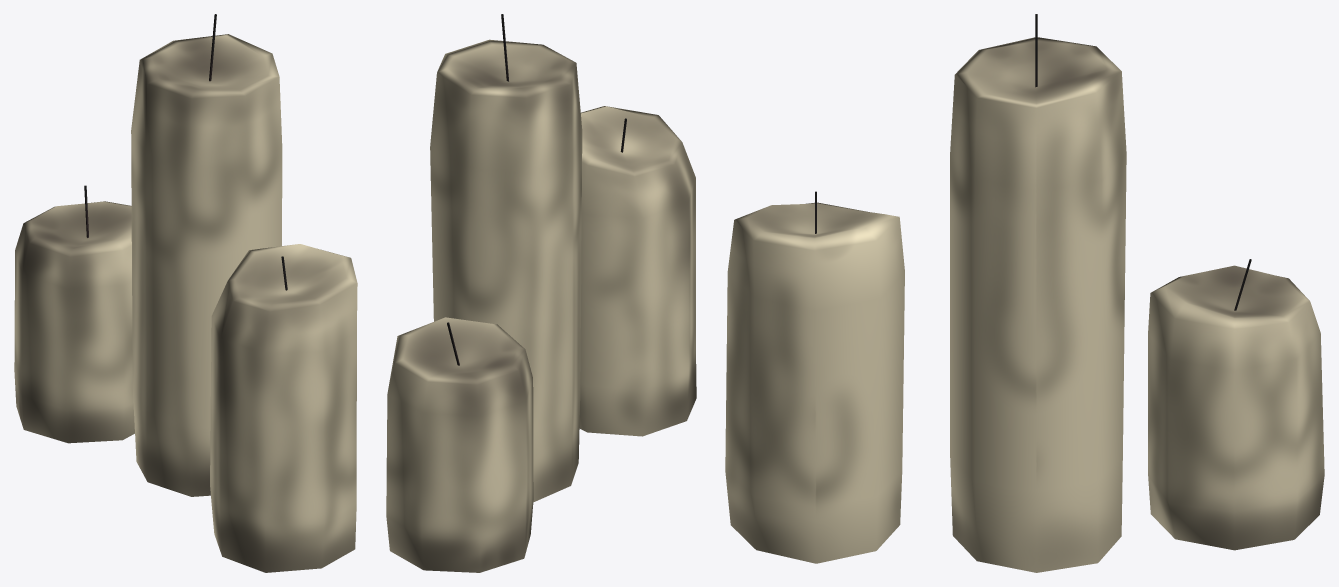
Rendered from Candles.fbx.
3 views of the same model, side by side, from view 1: azimuth 30°, elevation 25°; view 2: azimuth 150°, elevation 25°; view 3: azimuth 270°, elevation 25° (orthographic). The views are drawn at different scales.
Parts seen in each view (by area): view 1: Candles; view 2: Candles; view 3: Candles.
Part boxes in pixels (x1,y1,x2,y2): Candles: [14, 14, 357, 572]; Candles: [386, 14, 696, 572]; Candles: [725, 14, 1324, 572].
Size of the model in its own units: 1.65 by 4.23 by 4.33.
Materials: 1 (1 with a texture image).
